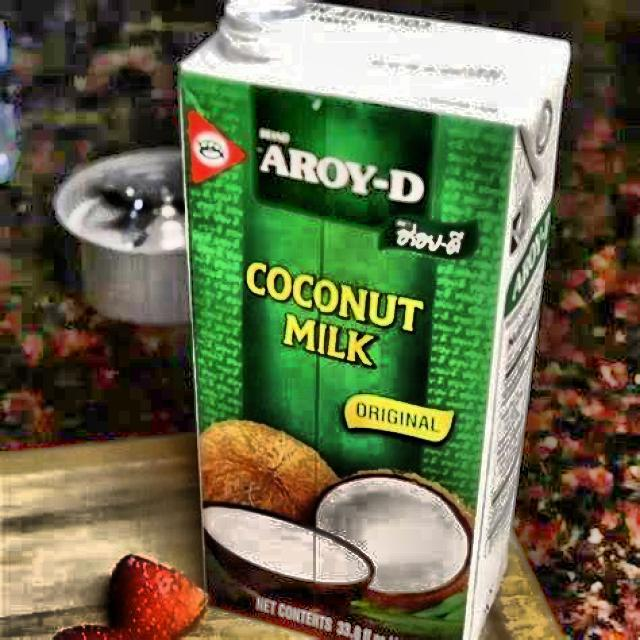cardboard: (176, 0, 572, 639)
